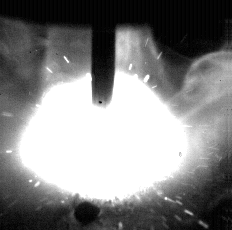arame: (92, 0, 116, 108)
poca: (17, 0, 188, 230)
